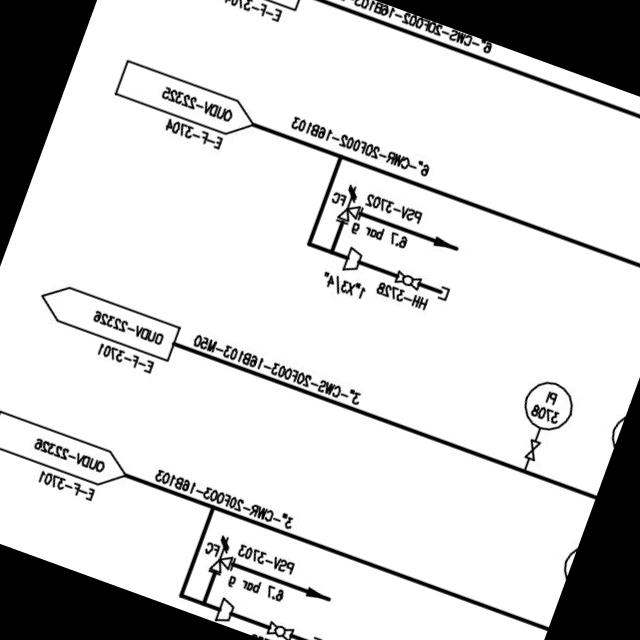BV2: (390, 262, 427, 292), (263, 614, 299, 640)
EC: (424, 275, 456, 304), (296, 625, 333, 640)
GV: (520, 432, 544, 462)
RPV: (202, 528, 244, 582), (333, 178, 374, 228)
SP: (338, 240, 368, 276), (212, 590, 242, 624)
